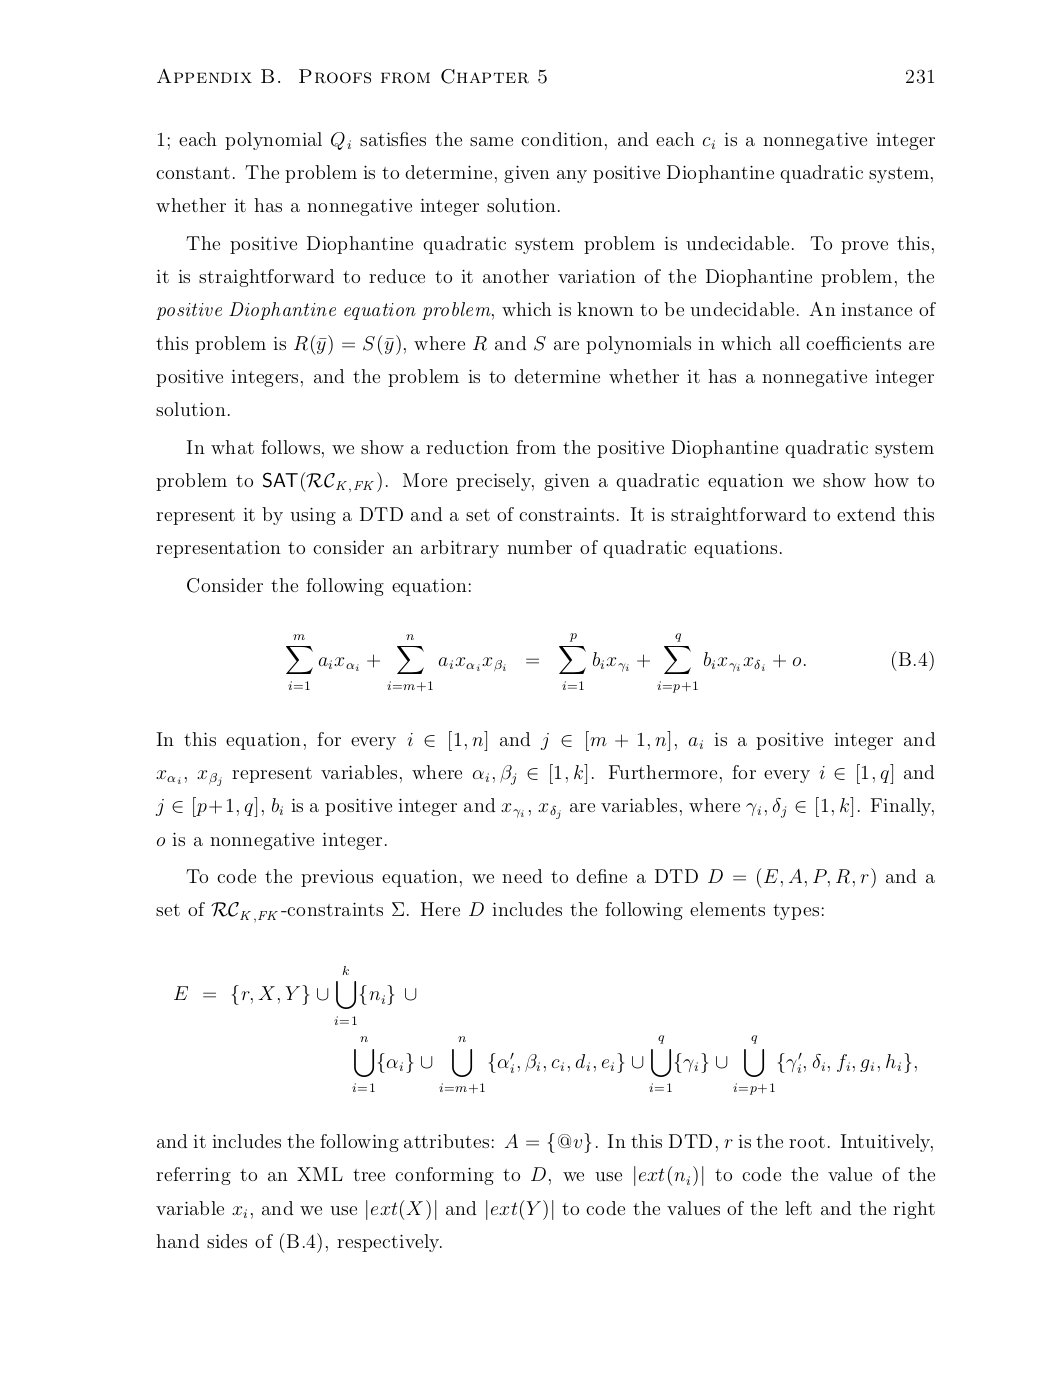formula: (286, 633, 933, 692), (352, 1035, 916, 1094), (174, 968, 416, 1024)
